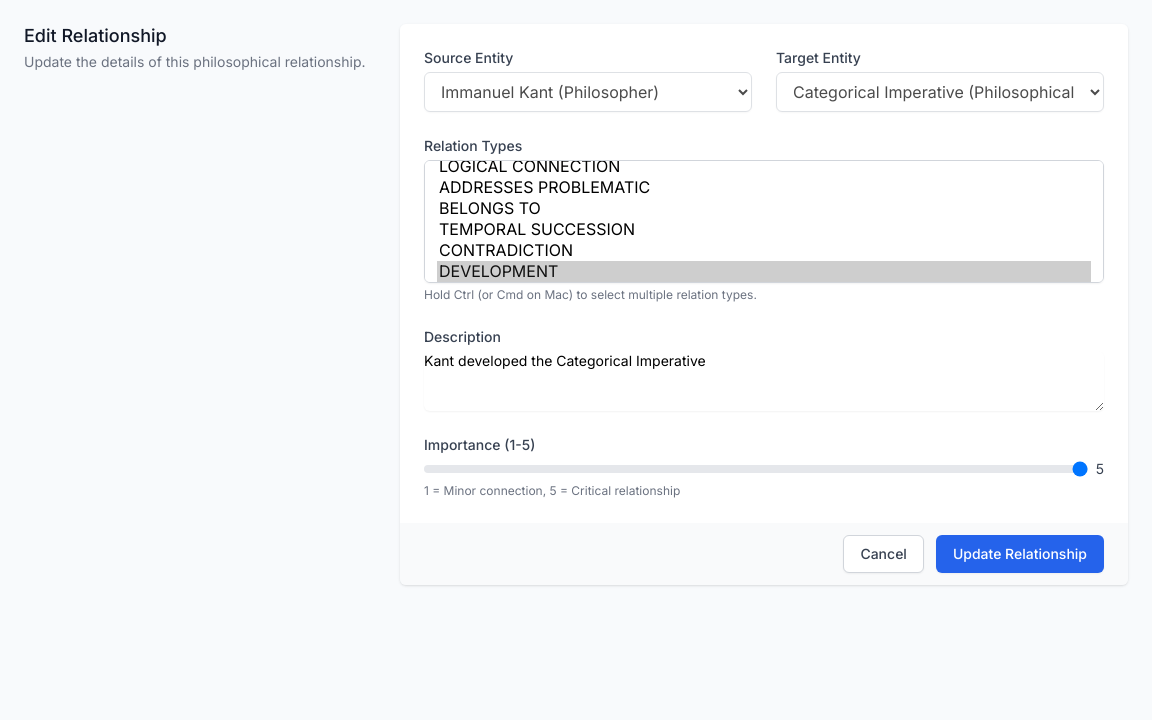
Test: RelationshipForm Component › Form Submission › successfully updates an existing relationship
(page scrolled)
Expected: the form named "Edit Relationship Form" is shown, [400, 24, 1128, 585]
Replace the text in the text box with test id "description-input" with "Updated description" at {"x": 764, "y": 381}, box [424, 351, 1104, 411]
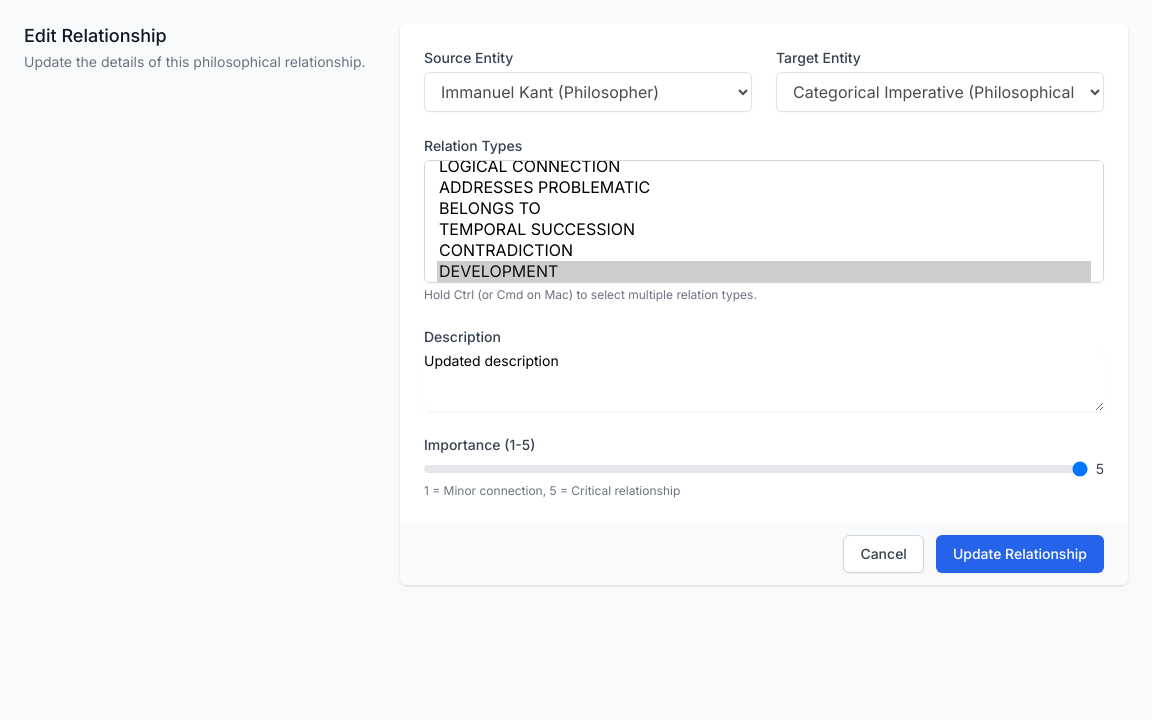
Set the slider with test id "importance-slider" to "4" at {"x": 918, "y": 469}, box [424, 465, 1088, 473]
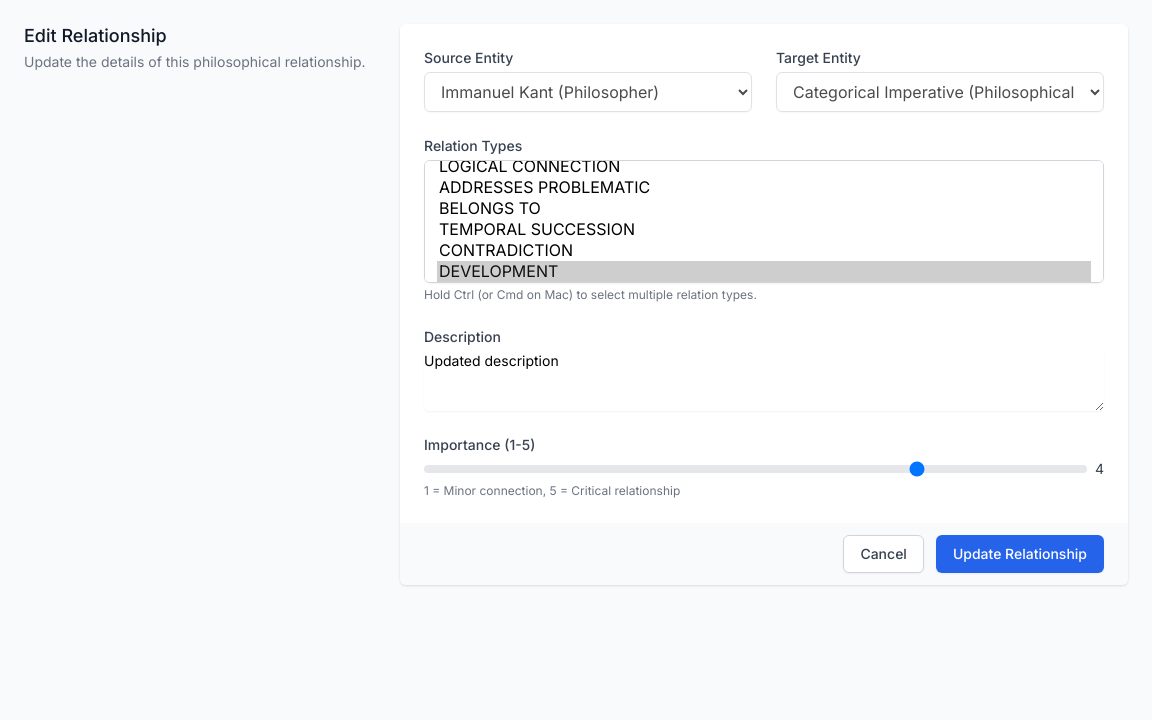
Click the button with test id "submit-button" at {"x": 1020, "y": 554}, box [936, 535, 1104, 573]
Wait 2000 ms
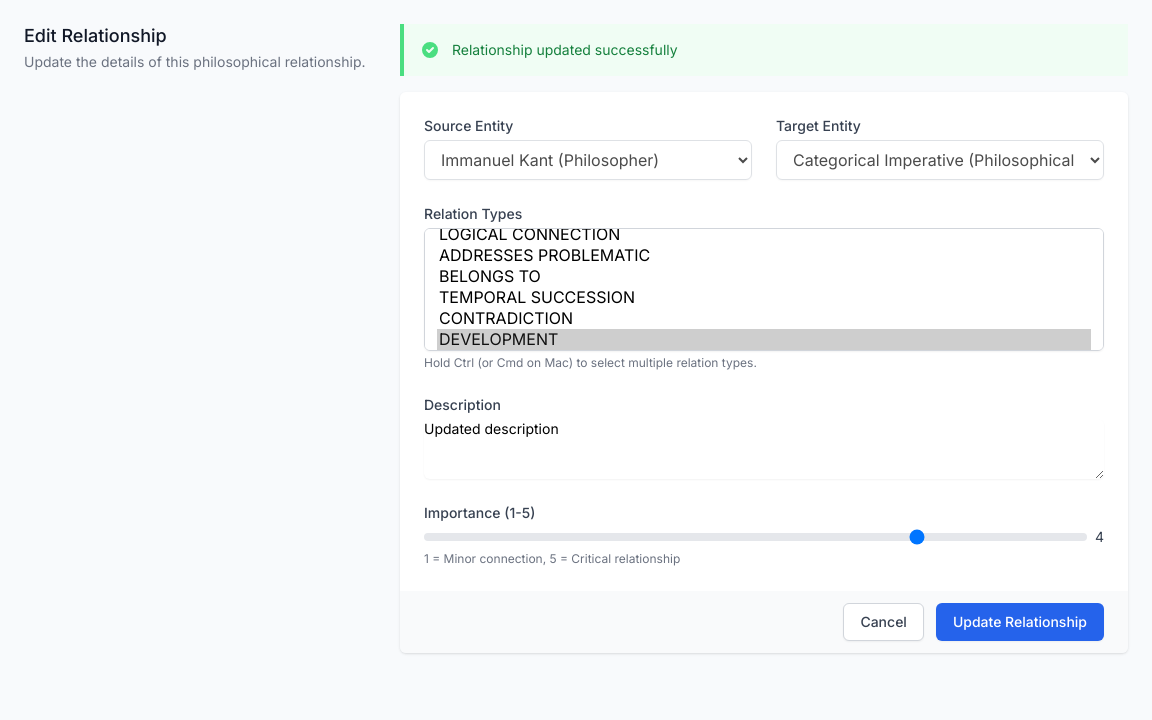
Expected: the text "Relationship updated successfully" is shown, [452, 40, 678, 60]
